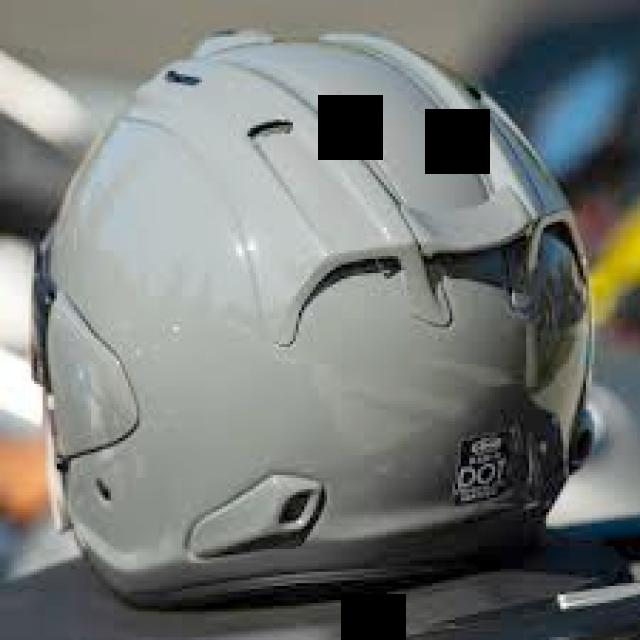Helmet: (44, 65, 640, 590)
